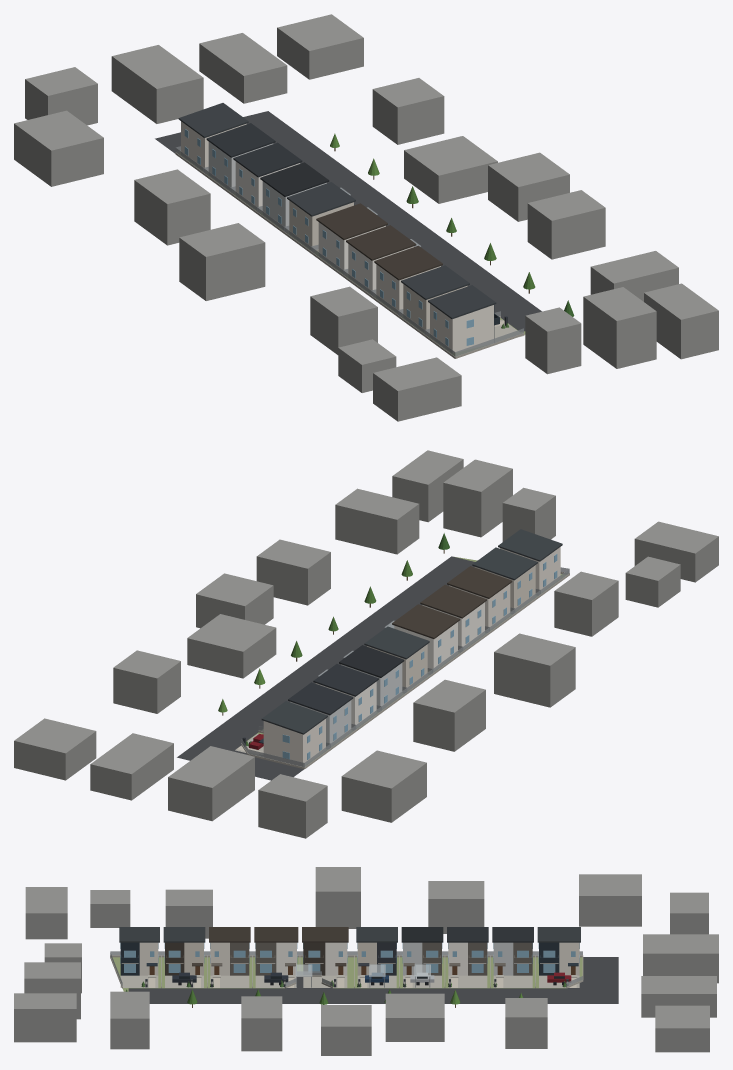
File: mitsushima_town.glb
3 views of the same model, one above another, from view 1: azimuth 30°, elevation 25°; view 2: azimuth 150°, elevation 25°; view 3: azimuth 270°, elevation 25° (orthographic). The views are drawn at different scales.
Parts seen in each view (by area): view 1: neighbor, road, house_10, fence, house_06, house_05, house_07, house_01, house_04, house_03, house_02, house_08 (+2 smaller); view 2: neighbor, road, house_01, fence, house_06, house_07, house_04, house_05, house_08, house_02, house_09, house_03 (+2 smaller); view 3: neighbor, road, house_07, house_06, house_01, house_04, house_09, house_02, house_03, house_05, house_08, house_10 (+2 smaller).
Boxes of the visible parts, x1,y1,x2,y2 form: neighbor: [14, 14, 718, 421]; road: [155, 111, 541, 331]; house_10: [428, 285, 524, 352]; fence: [175, 146, 524, 358]; house_06: [316, 203, 387, 272]; house_05: [287, 182, 377, 248]; house_07: [346, 225, 420, 292]; house_01: [178, 103, 248, 169]; house_04: [260, 162, 354, 229]; house_03: [233, 142, 302, 209]; house_02: [206, 123, 275, 189]; house_08: [374, 245, 442, 312]; neighbor: [14, 450, 718, 838]; road: [177, 556, 475, 780]; house_01: [235, 701, 327, 766]; fence: [241, 567, 569, 769]; house_06: [392, 604, 460, 670]; house_07: [384, 584, 486, 649]; house_04: [318, 645, 404, 708]; house_05: [343, 626, 429, 689]; house_08: [447, 566, 512, 629]; house_02: [262, 682, 353, 745]; house_09: [472, 547, 537, 610]; house_03: [313, 664, 378, 726]; neighbor: [14, 867, 718, 1055]; road: [128, 957, 618, 1003]; house_07: [254, 927, 312, 987]; house_06: [302, 927, 348, 987]; house_01: [537, 927, 580, 987]; house_04: [401, 927, 443, 987]; house_09: [163, 927, 205, 987]; house_02: [492, 927, 533, 987]; house_03: [447, 927, 488, 987]; house_05: [356, 927, 397, 987]; house_08: [209, 927, 250, 987]; house_10: [119, 927, 159, 987].
Size of what is drawn, in the model's own units: 65.44 by 8.17 by 129.
